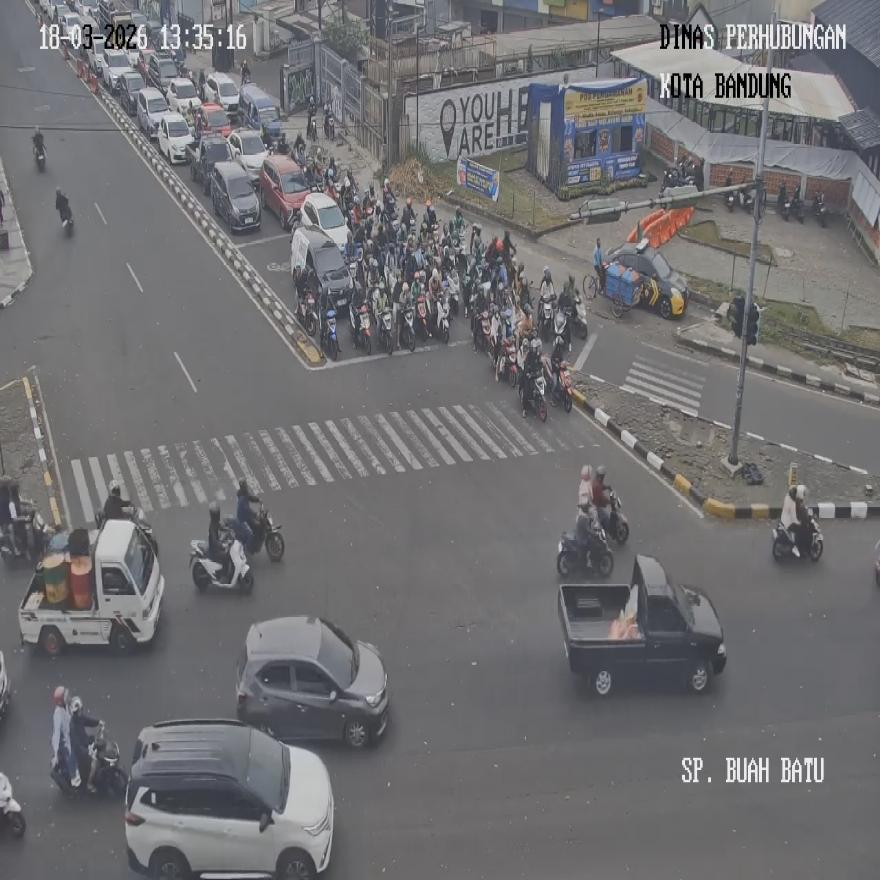Motor: (123, 718, 334, 878), (556, 554, 726, 696), (235, 615, 389, 748), (16, 516, 163, 654), (210, 160, 261, 235), (260, 154, 310, 230), (226, 127, 270, 186)
Truk: (50, 721, 127, 799), (190, 533, 252, 594), (556, 518, 612, 578), (0, 509, 52, 564), (772, 513, 823, 561), (242, 505, 284, 561), (0, 771, 25, 836), (599, 491, 629, 544), (520, 366, 548, 420), (547, 356, 573, 413), (350, 302, 372, 354), (496, 336, 518, 386), (472, 308, 494, 357), (296, 290, 317, 336), (553, 303, 571, 356), (396, 302, 415, 352), (741, 178, 765, 216), (55, 189, 74, 236), (323, 309, 340, 361), (376, 305, 394, 354), (433, 294, 450, 344), (414, 293, 431, 341), (570, 294, 586, 340), (537, 296, 553, 341), (789, 188, 805, 224), (724, 170, 737, 211), (812, 191, 826, 226), (779, 181, 791, 220), (33, 139, 45, 170)
